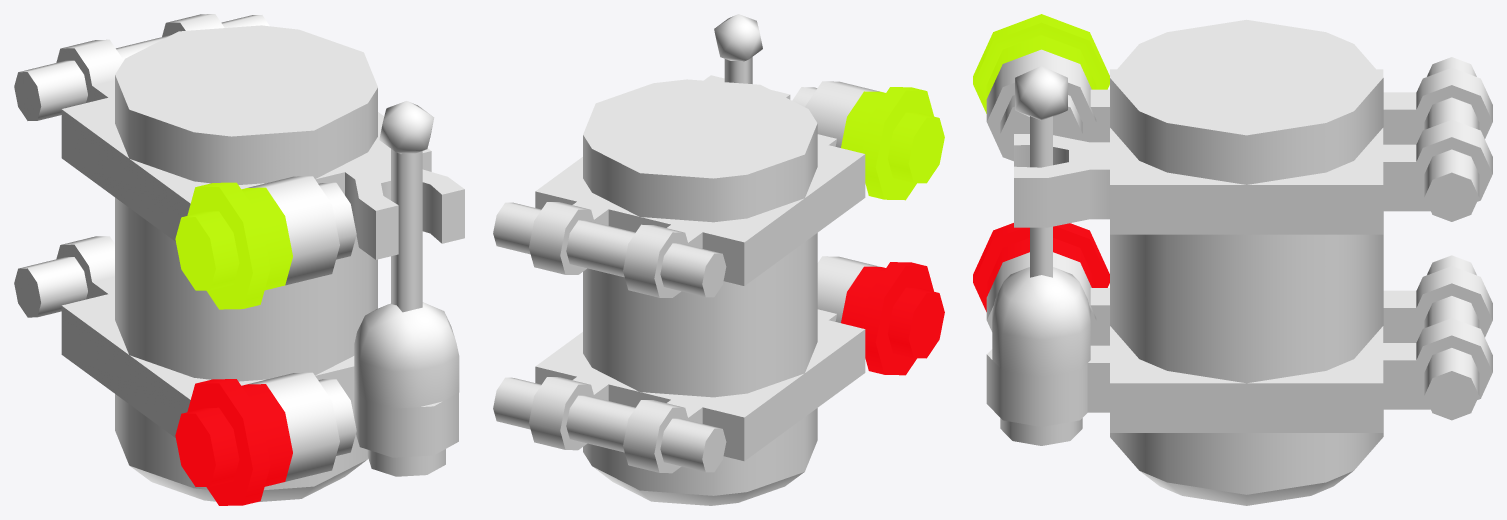
File: Minikit.glb
3 renders of one model, left to right at view 1: azimuth 30°, elevation 25°; view 2: azimuth 150°, elevation 25°; view 3: azimuth 270°, elevation 25°, orthographic. The views are drawn at different scales.
Parts seen in each view (by area): view 1: Minikit.001; view 2: Minikit.001; view 3: Minikit.001.
Part boxes in pixels (x1,y1,x2,y2): Minikit.001: (14,14,464,505); Minikit.001: (493,14,944,505); Minikit.001: (973,14,1492,505).
Bounding box in the file's own units: 0.7427 × 1.14 × 1.23.
